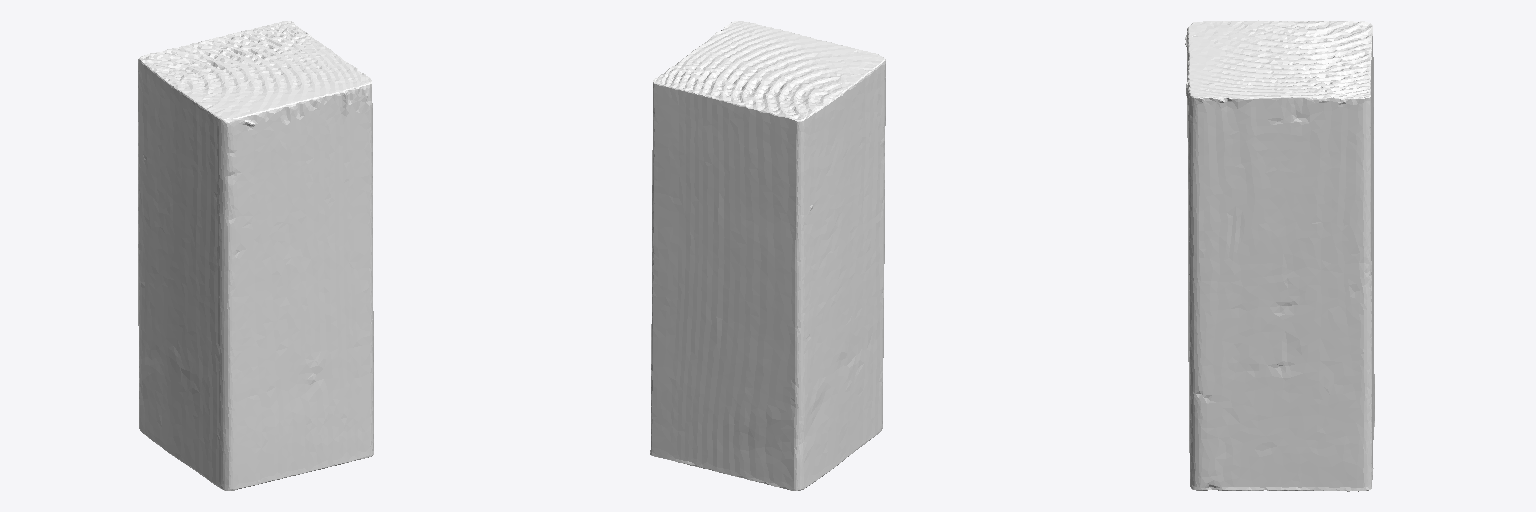
The robot description file, URDF, robot "sugar_box":
<robot name="sugar_box">
	<link name="base_link">
		<visual>
			<origin xyz="0.007698415494577894 0.017078163162294522 -0.08602381422432334" rpy="0.0 0.0 0.0" />
			<geometry>
				<mesh filename="004_sugar_box/google_16k/textured.obj" scale="1 1 1" />
			</geometry>
			<material name="texture">
				<color rgba="1.0 1.0 1.0 1.0" />
			</material>
		</visual>
		<collision>
			<origin xyz="0.007698415494577894 0.017078163162294522 -0.08602381422432334" rpy="0.0 0.0 0.0" />
			<geometry>
				<mesh filename="004_sugar_box/google_16k/textured_vhacd.obj" scale="1 1 1" />
			</geometry>
		</collision>
		<inertial>
			<mass value="0.514" />
			<inertia ixx="1e-3" ixy="0.0" ixz="0.0" iyy="1e-3" iyz="0.0" izz="1e-3" />
		</inertial>
	</link>
</robot>

--- Facts derived from the render (not from the file) ---
Views: 3 orthographic renders of the robot side by side, from view 1: azimuth 30°, elevation 25°; view 2: azimuth 150°, elevation 25°; view 3: azimuth 270°, elevation 25°.
Model sugar_box with 1 links and 0 joints (none), rooted at base_link, posed every joint at zero.
Visible links, largest first — view 1: base_link; view 2: base_link; view 3: base_link.
Link boxes in pixels (x1,y1,x2,y2): base_link: (138, 21, 373, 490); base_link: (650, 21, 885, 490); base_link: (1185, 20, 1374, 491).
Size in the robot's own frame: 0.0906 by 0.0899 by 0.206 metres.
Meshes: 1 distinct files referenced, 1 mesh visuals loaded (1 OBJ).